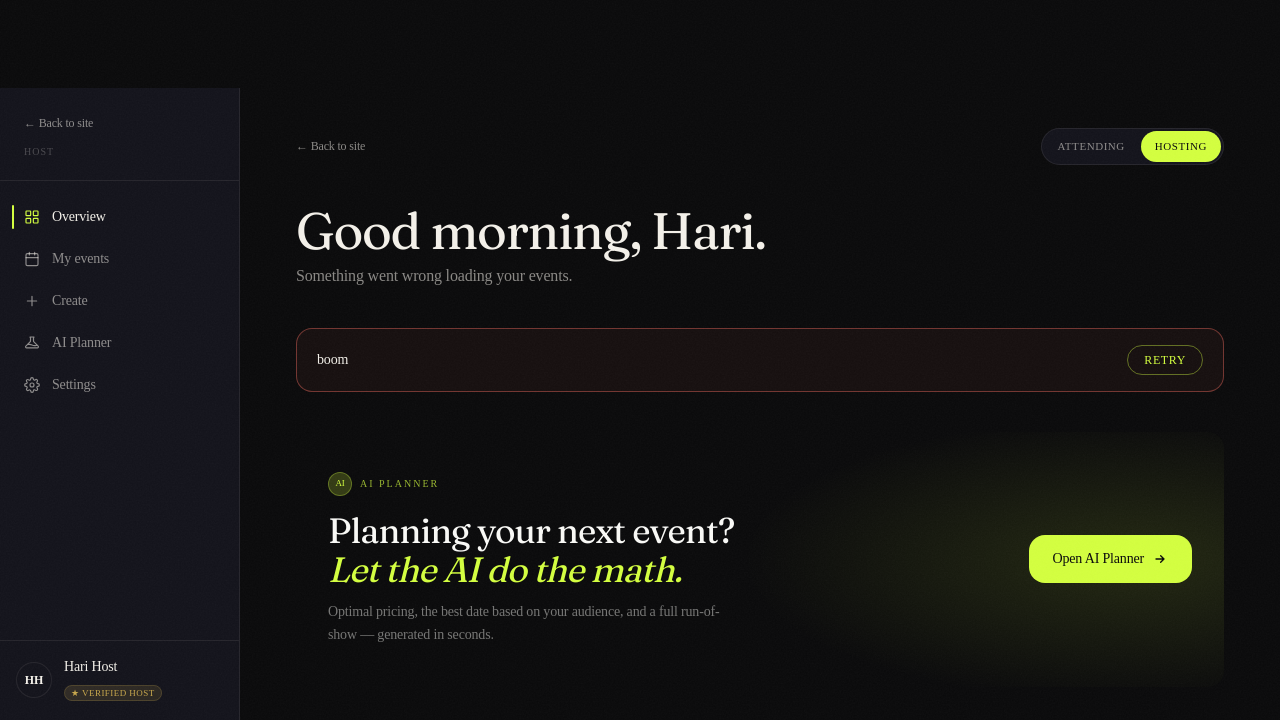
Scenario: <HostDashboard /> › shows an error with Retry when the API fails, not zeros
The image size is (1280, 720).
expect the message shows "boom": met, box top-left (317, 352), bottom-right (348, 367)
expect the text "Ticket revenue" is not shown: met
Click the button "Retry".
click(1165, 360)  # box top-left (1127, 345), bottom-right (1203, 375)
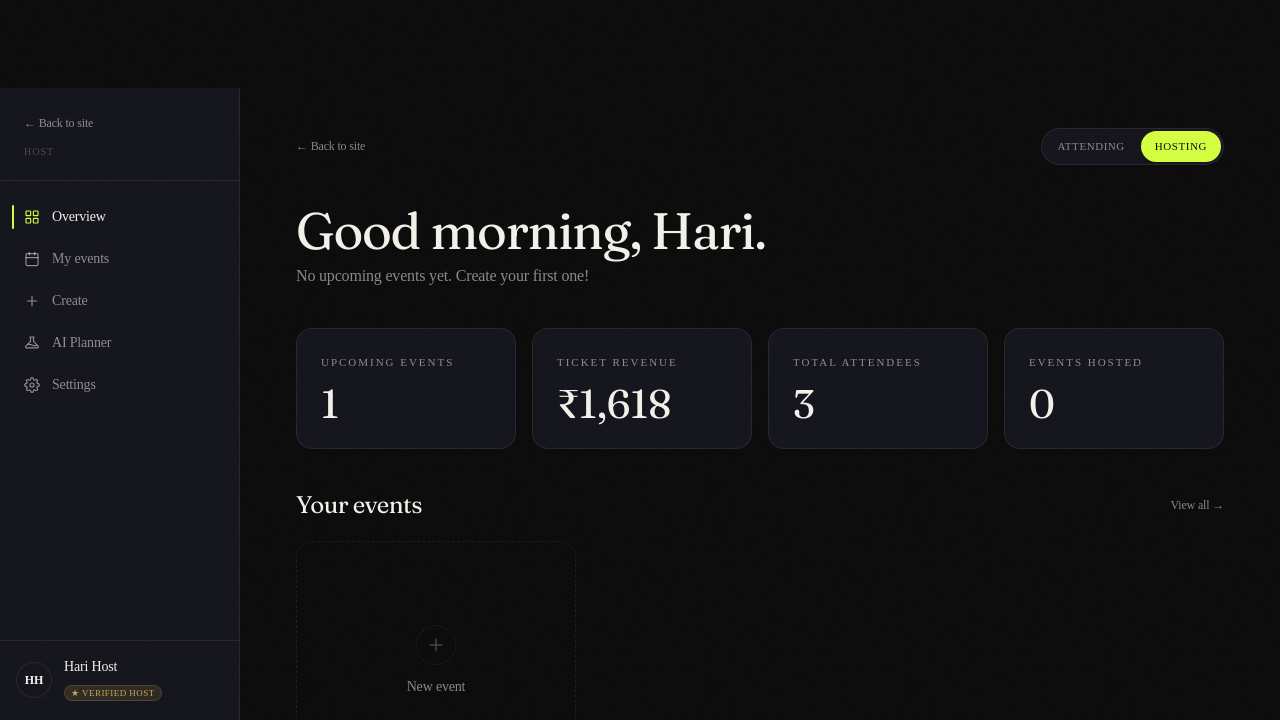
expect the text "Ticket revenue" is shown: met, box top-left (557, 356), bottom-right (678, 368)
